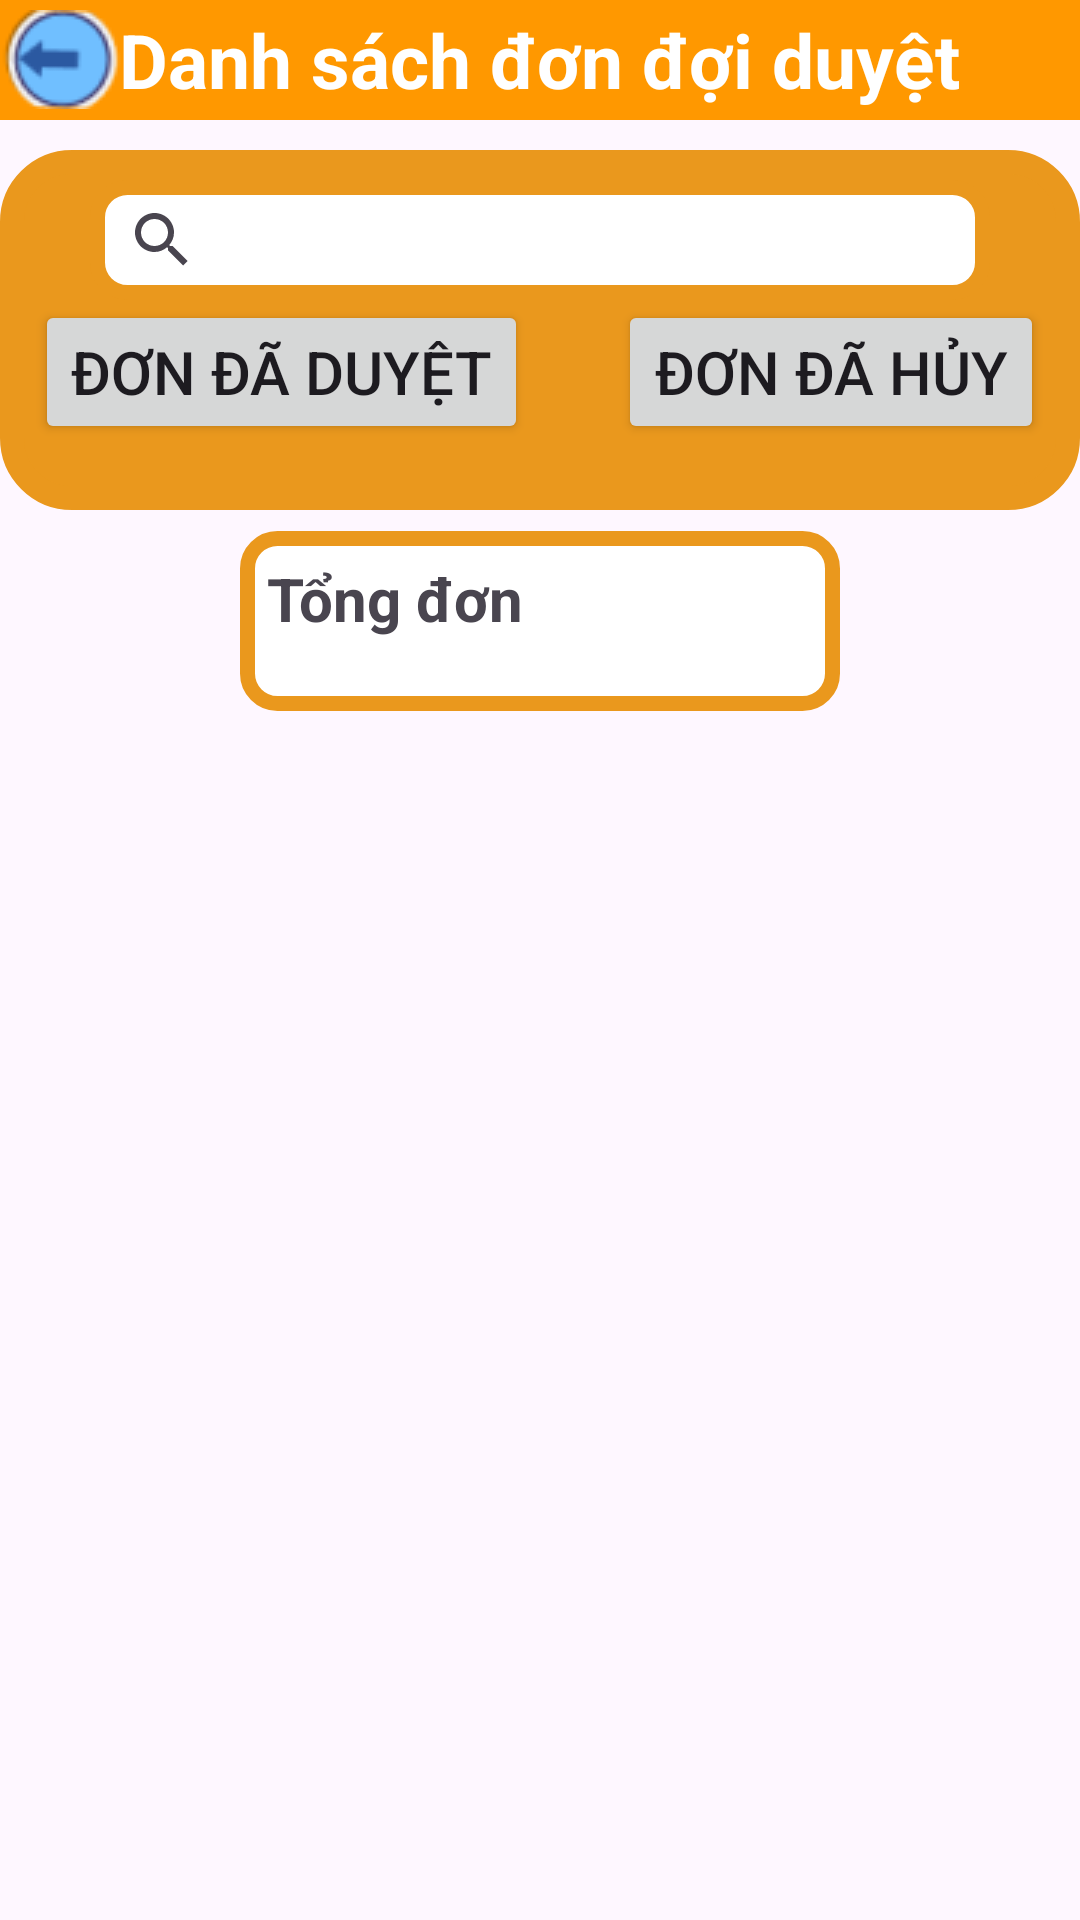

Named icons in this screenshot (1080*1920) and their centers, [x,y]:
thoat: [61,59]
